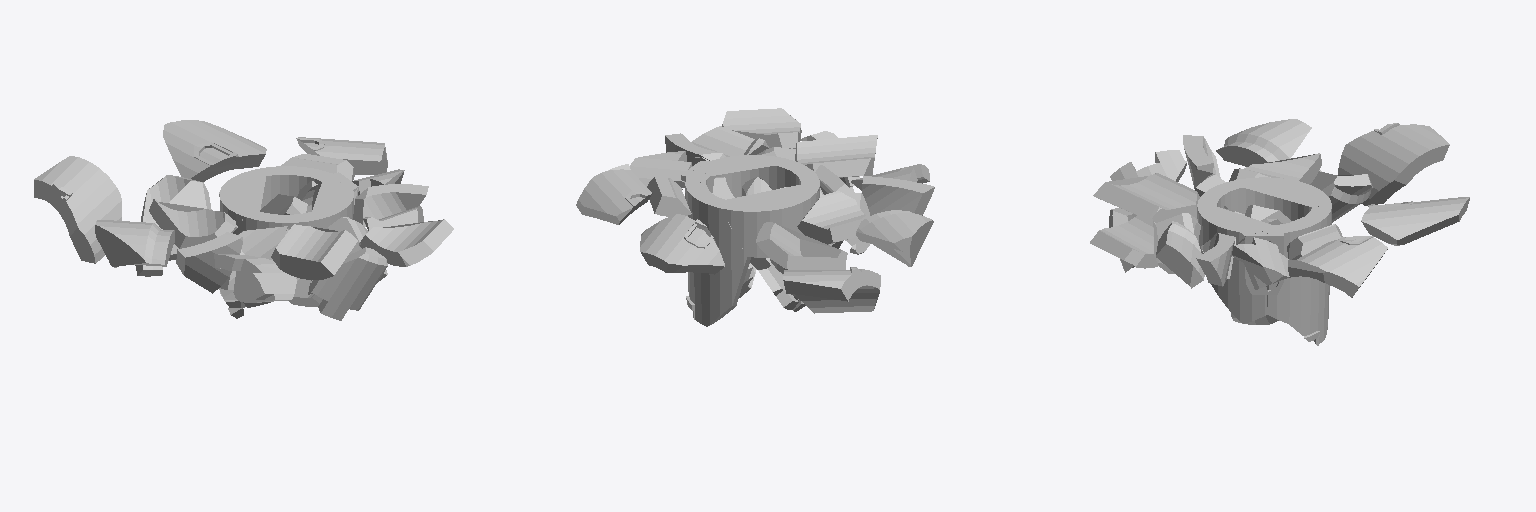
The model's file is destruction_tower_000077.obj.
The picture shows the model from 3 angles: view 1: azimuth 30°, elevation 25°; view 2: azimuth 150°, elevation 25°; view 3: azimuth 270°, elevation 25°; orthographic projection.
Visible parts, largest first — view 1: tower.001_cell.003_Mesh.003, tower.001_cell.025_Mesh.025, tower.001_cell.024_Mesh.024, tower.001_cell.011_Mesh.011, tower.001_cell.005_Mesh.005, tower.001_cell.021_Mesh.021, tower.001_cell.006_Mesh.006, tower.001_cell.009_Mesh.009, tower.001_cell.002_Mesh.002, tower.001_cell.007_Mesh.007, tower.001_cell.012_Mesh.012, tower.001_cell.010_Mesh.010 (+11 smaller); view 2: tower.001_cell.017_Mesh.017, tower.001_cell.025_Mesh.025, tower.001_cell.003_Mesh.003, tower.001_cell.015_Mesh.015, tower.001_cell.012_Mesh.012, tower.001_cell.007_Mesh.007, tower.001_cell.005_Mesh.005, tower.001_cell.024_Mesh.024, tower.001_cell.028_Mesh.028, tower.001_cell.009_Mesh.009, tower.001_cell.021_Mesh.021, tower.001_cell.002_Mesh.002 (+8 smaller); view 3: tower.001_cell.003_Mesh.003, tower.001_cell.012_Mesh.012, tower.001_cell.025_Mesh.025, tower.001_cell.024_Mesh.024, tower.001_cell.017_Mesh.017, tower.001_cell.005_Mesh.005, tower.001_cell.015_Mesh.015, tower.001_cell.021_Mesh.021, tower.001_cell.020_Mesh.020, tower.001_cell.028_Mesh.028, tower.001_cell_Mesh, tower.001_cell.030_Mesh.030 (+9 smaller).
Part boxes in pixels (bbox=[...]): tower.001_cell.003_Mesh.003: bbox=[34, 156, 121, 263]; tower.001_cell.025_Mesh.025: bbox=[163, 120, 266, 181]; tower.001_cell.024_Mesh.024: bbox=[271, 224, 357, 279]; tower.001_cell.011_Mesh.011: bbox=[309, 247, 387, 320]; tower.001_cell.005_Mesh.005: bbox=[95, 220, 174, 267]; tower.001_cell.021_Mesh.021: bbox=[359, 219, 453, 266]; tower.001_cell.006_Mesh.006: bbox=[214, 254, 296, 302]; tower.001_cell.009_Mesh.009: bbox=[149, 199, 237, 248]; tower.001_cell.002_Mesh.002: bbox=[176, 232, 242, 293]; tower.001_cell.007_Mesh.007: bbox=[135, 175, 211, 276]; tower.001_cell.012_Mesh.012: bbox=[296, 137, 387, 174]; tower.001_cell.010_Mesh.010: bbox=[353, 184, 428, 226]; tower.001_cell.017_Mesh.017: bbox=[685, 179, 750, 326]; tower.001_cell.025_Mesh.025: bbox=[640, 214, 724, 274]; tower.001_cell.003_Mesh.003: bbox=[783, 267, 880, 313]; tower.001_cell.015_Mesh.015: bbox=[721, 185, 818, 257]; tower.001_cell.012_Mesh.012: bbox=[576, 164, 652, 224]; tower.001_cell.007_Mesh.007: bbox=[756, 222, 847, 273]; tower.001_cell.005_Mesh.005: bbox=[856, 210, 933, 266]; tower.001_cell.024_Mesh.024: bbox=[795, 135, 877, 177]; tower.001_cell.028_Mesh.028: bbox=[700, 155, 809, 197]; tower.001_cell.009_Mesh.009: bbox=[797, 191, 866, 244]; tower.001_cell.021_Mesh.021: bbox=[722, 108, 801, 148]; tower.001_cell.002_Mesh.002: bbox=[862, 176, 934, 215]; tower.001_cell.003_Mesh.003: bbox=[1338, 123, 1449, 205]; tower.001_cell.012_Mesh.012: bbox=[1288, 236, 1387, 297]; tower.001_cell.025_Mesh.025: bbox=[1361, 197, 1469, 245]; tower.001_cell.024_Mesh.024: bbox=[1093, 173, 1199, 222]; tower.001_cell.017_Mesh.017: bbox=[1289, 205, 1331, 345]; tower.001_cell.005_Mesh.005: bbox=[1216, 119, 1311, 166]; tower.001_cell.015_Mesh.015: bbox=[1243, 177, 1331, 220]; tower.001_cell.021_Mesh.021: bbox=[1090, 213, 1158, 268]; tower.001_cell.020_Mesh.020: bbox=[1211, 231, 1270, 323]; tower.001_cell.028_Mesh.028: bbox=[1197, 192, 1270, 253]; tower.001_cell_Mesh: bbox=[1156, 221, 1204, 288]; tower.001_cell.030_Mesh.030: bbox=[1232, 237, 1289, 289].
Size of the model in its own units: 112 by 44.4 by 121.